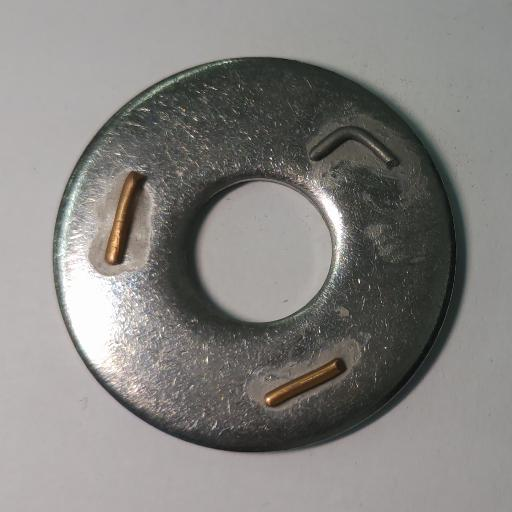excess_material: (310, 125, 398, 171), (265, 358, 347, 407), (105, 171, 146, 265)
